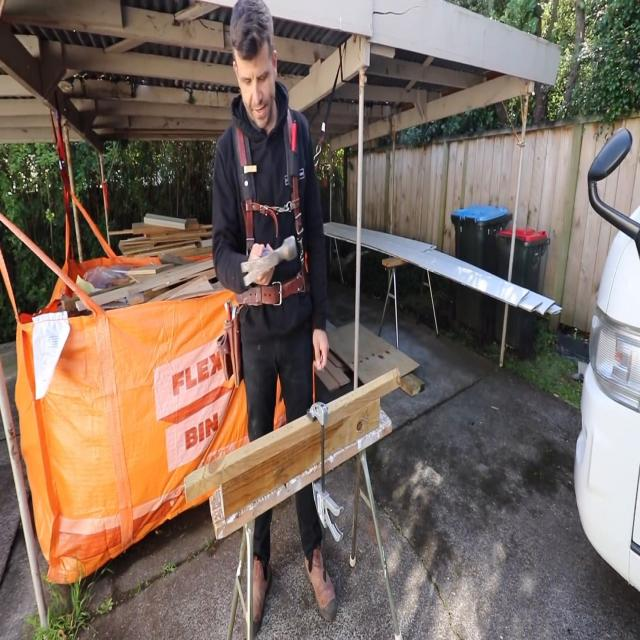hammer: (241, 236, 297, 284)
